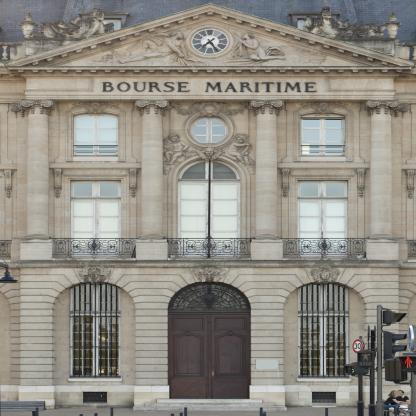Balcony: (49, 238, 371, 261)
Blind: (178, 180, 240, 258), (297, 198, 348, 258), (70, 198, 121, 258)
Building Outline: (0, 0, 416, 411)
Cornice: (3, 3, 416, 69), (277, 163, 370, 198), (49, 163, 142, 198)
Deco: (89, 25, 327, 66), (162, 133, 256, 175), (303, 6, 388, 38), (29, 8, 115, 38), (102, 82, 317, 92), (174, 101, 245, 117), (298, 101, 349, 114), (70, 101, 121, 114), (382, 11, 402, 42), (77, 265, 111, 283), (193, 265, 227, 283), (18, 12, 38, 42), (309, 265, 342, 283)
Door: (168, 311, 250, 399), (178, 180, 240, 258), (297, 198, 348, 258), (70, 198, 121, 258)
Facade: (0, 66, 415, 411)
Floor: (1, 65, 415, 168), (1, 168, 415, 263)
Floor Slab: (1, 258, 415, 263), (1, 163, 415, 168), (1, 60, 415, 65)
Ground Floor: (1, 263, 415, 411)
Molding: (0, 69, 403, 78)
Pillar: (134, 98, 170, 261), (19, 98, 54, 261), (250, 99, 284, 261), (366, 99, 400, 261)
Roof: (0, 0, 416, 67)
Sill: (67, 378, 123, 383), (297, 378, 352, 383)
Top Floor: (1, 0, 415, 65)
Window: (52, 281, 136, 410), (283, 281, 367, 408), (298, 282, 349, 378), (70, 282, 121, 378), (167, 281, 251, 311), (300, 112, 345, 157), (73, 112, 118, 157), (178, 159, 240, 180), (298, 18, 331, 47), (88, 18, 121, 47), (297, 180, 348, 198), (70, 180, 121, 198), (312, 392, 336, 405), (83, 392, 107, 403)
dont: (344, 304, 416, 416), (0, 400, 47, 416), (110, 407, 114, 416), (259, 407, 263, 416), (184, 407, 187, 416), (325, 408, 328, 416)
